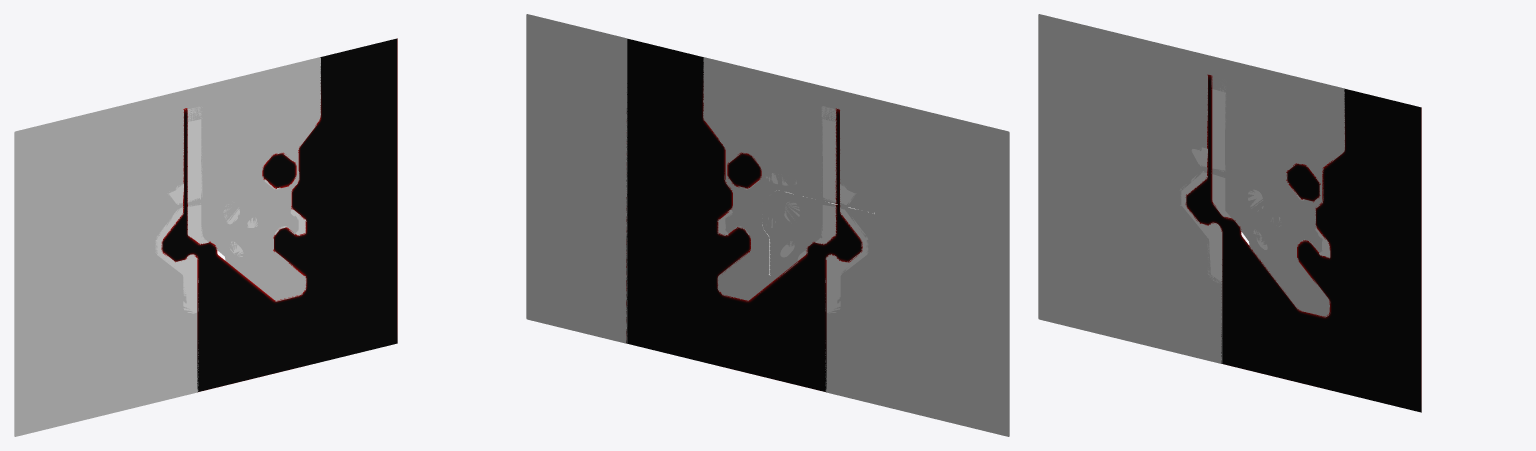
The model's file is Mumbai.glb.
3 views of the same model, side by side, from view 1: azimuth 30°, elevation 25°; view 2: azimuth 150°, elevation 25°; view 3: azimuth 330°, elevation 25° (orthographic).
Parts seen in each view (by area): view 1: MSH_MAP_Mumbai, MSH_MAP_Mumbai_Water, MSH_MAP_Mumbai_Grass; view 2: MSH_MAP_Mumbai, MSH_MAP_Mumbai_Water, MSH_MAP_Mumbai_Grass; view 3: MSH_MAP_Mumbai, MSH_MAP_Mumbai_Water, MSH_MAP_Mumbai_Grass.
Boxes of the visible parts, box(x1,y1,x2,y2) form: MSH_MAP_Mumbai: box(14, 57, 320, 436); MSH_MAP_Mumbai_Water: box(161, 38, 397, 392); MSH_MAP_Mumbai_Grass: box(155, 107, 306, 313); MSH_MAP_Mumbai: box(526, 14, 1009, 436); MSH_MAP_Mumbai_Water: box(626, 38, 862, 392); MSH_MAP_Mumbai_Grass: box(717, 106, 868, 313); MSH_MAP_Mumbai: box(1038, 14, 1344, 363); MSH_MAP_Mumbai_Water: box(1185, 74, 1421, 412); MSH_MAP_Mumbai_Grass: box(1179, 85, 1330, 283).
Size of the model in its own units: 268 by 162 by 3.54e-08.
Materials: 5 (1 with a texture image).
